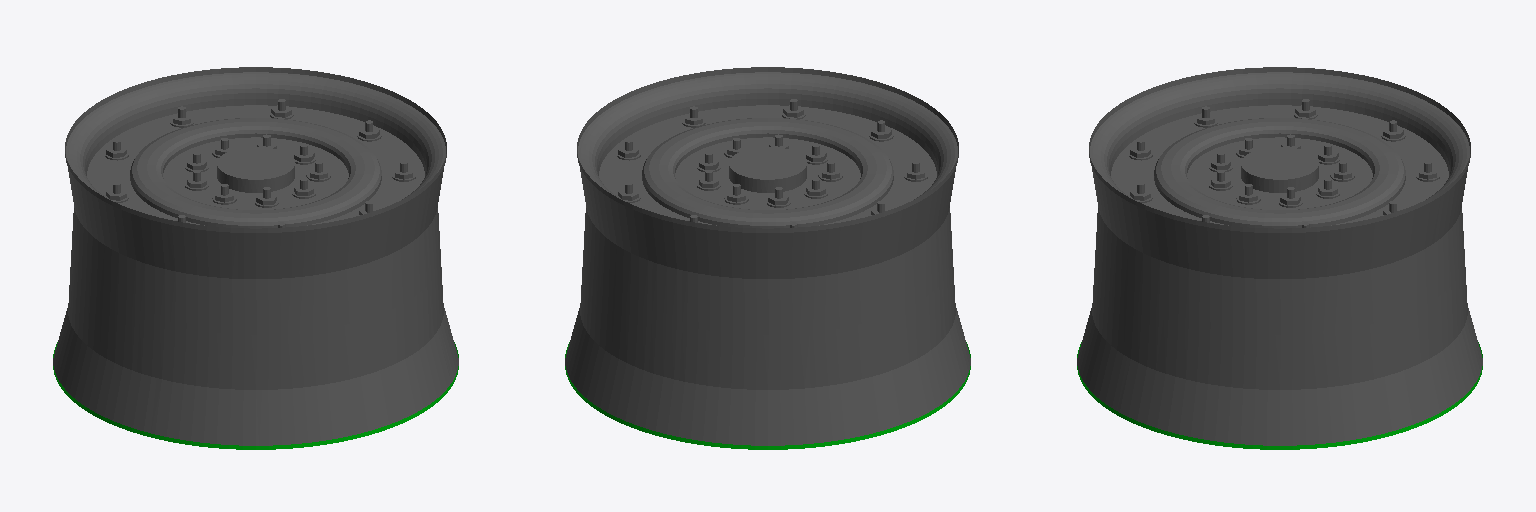
Rendered from hmmwv_rim_clear.obj.
3 renders of one model, left to right at view 1: azimuth 30°, elevation 25°; view 2: azimuth 150°, elevation 25°; view 3: azimuth 270°, elevation 25°, orthographic.
Visible parts, largest first — view 1: Hub_wheel1; view 2: Hub_wheel1; view 3: Hub_wheel1.
Boxes of the visible parts, x1,y1,x2,y2 form: Hub_wheel1: [53, 67, 458, 449]; Hub_wheel1: [565, 67, 970, 449]; Hub_wheel1: [1077, 67, 1482, 449].
Size of the model in its own units: 0.4844 by 0.2847 by 0.4844.